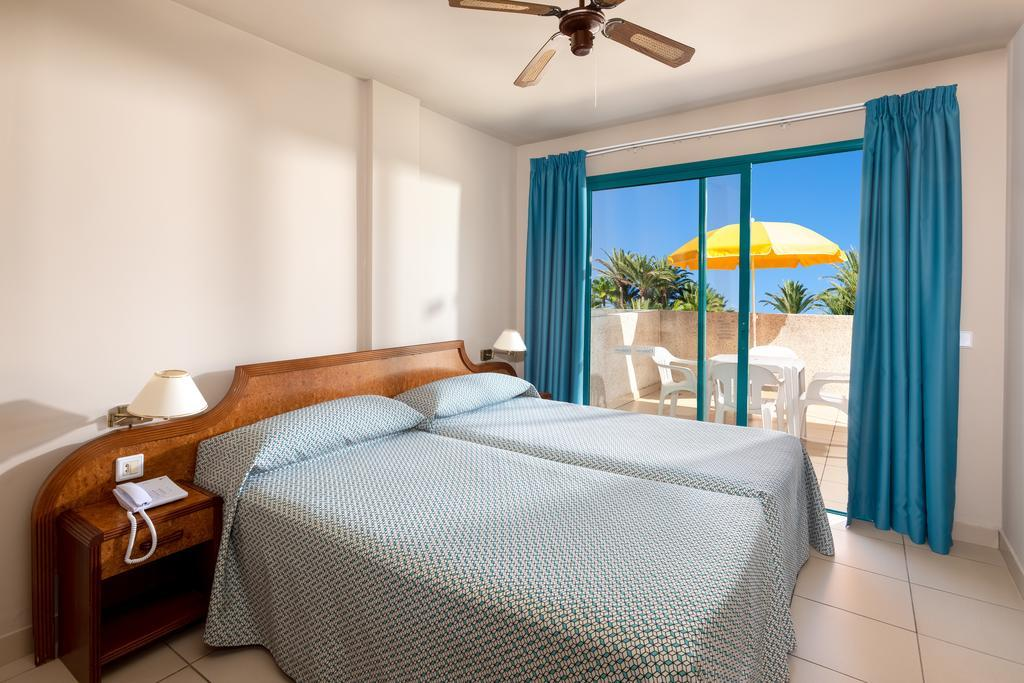bed: (253, 315, 717, 665)
